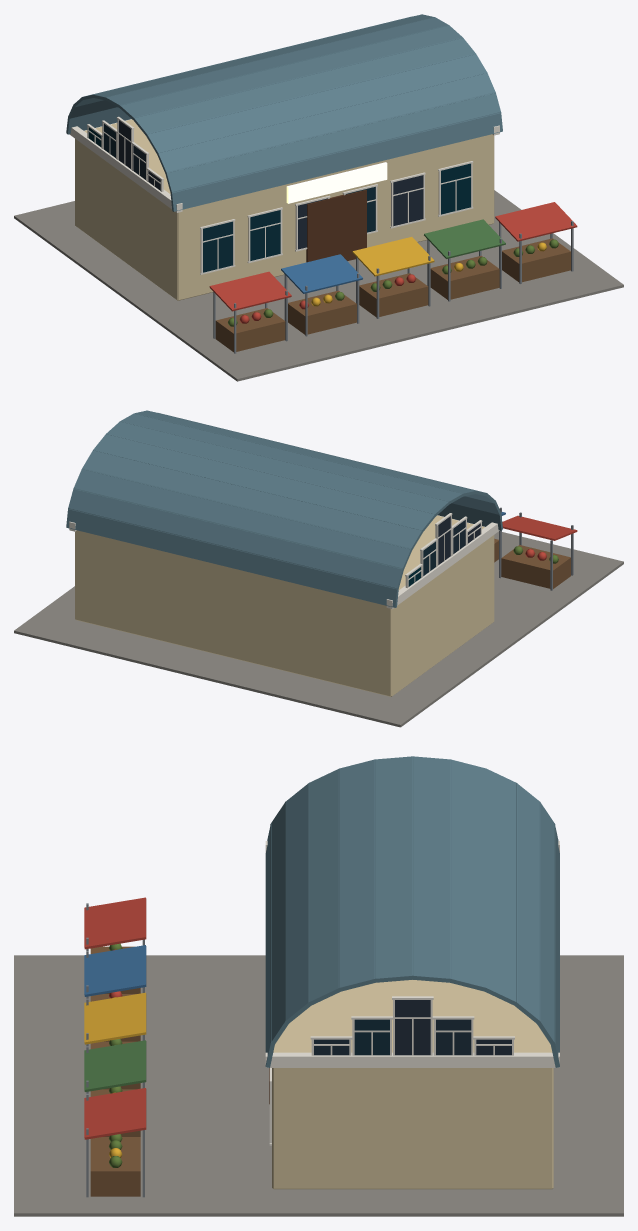
Rendered from market.glb.
3 renders of one model, top to bottom at view 1: azimuth 30°, elevation 25°; view 2: azimuth 150°, elevation 25°; view 3: azimuth 270°, elevation 25°, orthographic. The views are drawn at different scales.
Visible parts, largest first — view 1: market; view 2: market; view 3: market.
Boxes of the visible parts, bbox=[...] form: market: bbox=[14, 14, 623, 381]; market: bbox=[14, 410, 623, 727]; market: bbox=[14, 756, 623, 1216].
Bounding box in the file's own units: 19.5 × 7.82 × 19.5.
